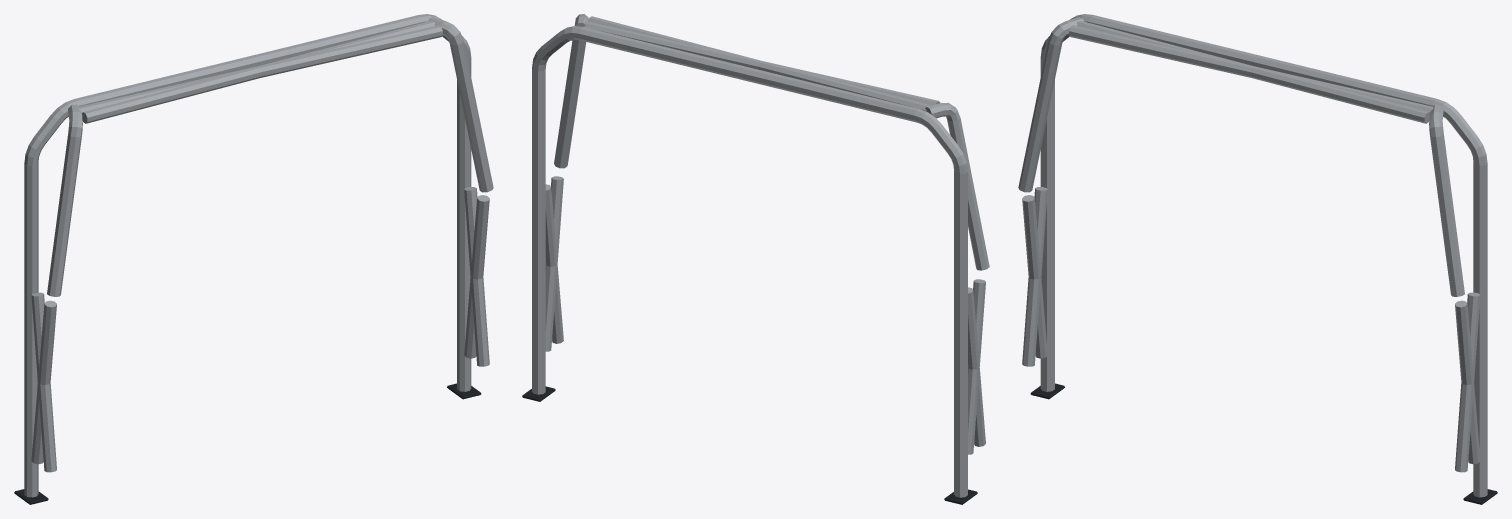
File: ridgeback_4x4.glb
The picture shows the model from 3 angles, left to right: view 1: azimuth 30°, elevation 25°; view 2: azimuth 150°, elevation 25°; view 3: azimuth 330°, elevation 25°; orthographic projection. The views are drawn at different scales.
Parts seen in each view (by area): view 1: model; view 2: model; view 3: model.
Boxes of the visible parts, <box> form: model: <box>14,14,493,504</box>; model: <box>522,14,989,504</box>; model: <box>1018,14,1497,504</box>.
Bounding box in the file's own units: 1.64 × 1.35 × 0.2127.
2 materials, 1 textured.
